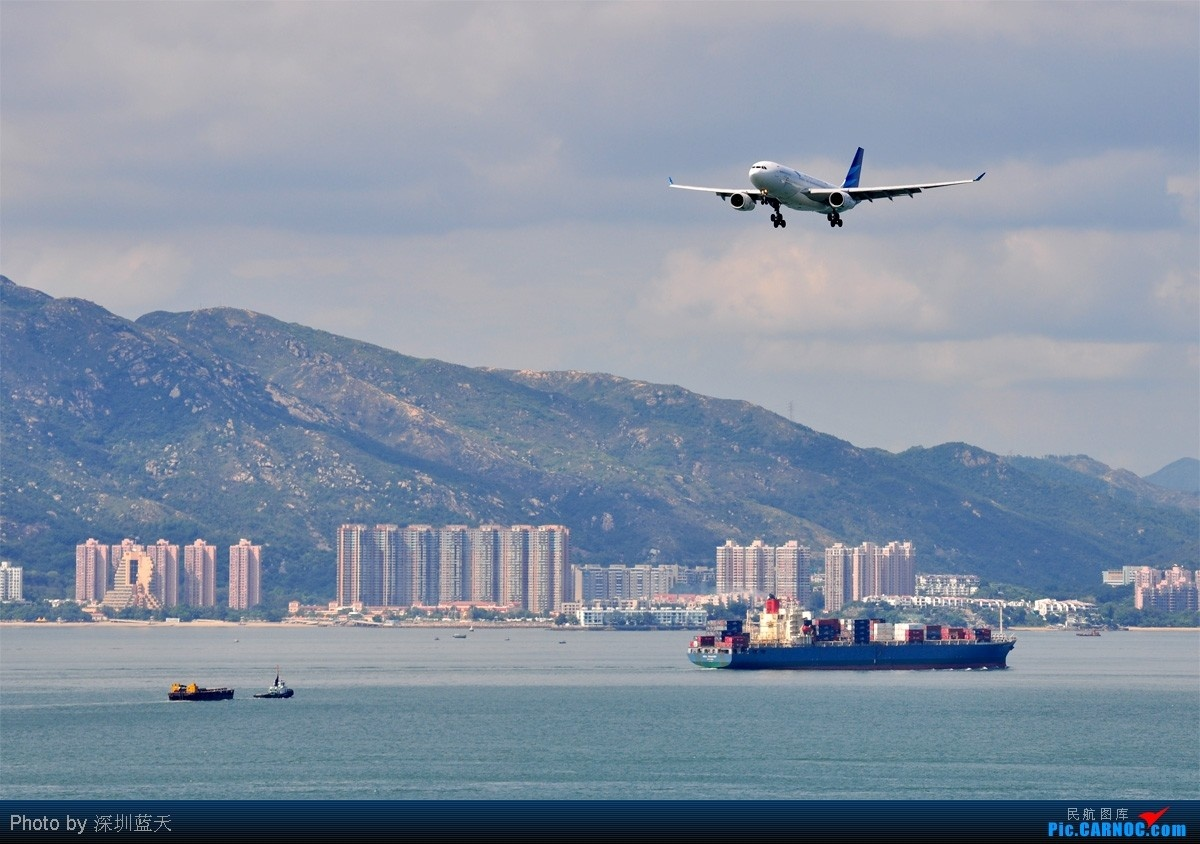Cargoship: (677, 589, 1011, 674), (169, 675, 236, 706)
airplane: (650, 132, 992, 233)
otherboat: (254, 663, 306, 701)
